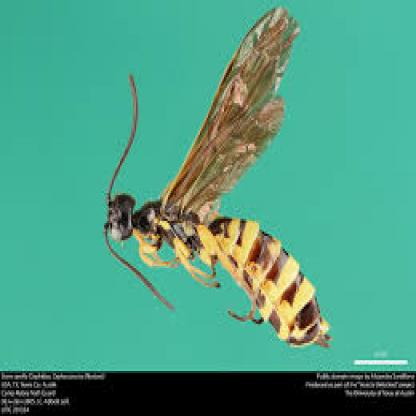sawfly: (102, 5, 338, 348)
